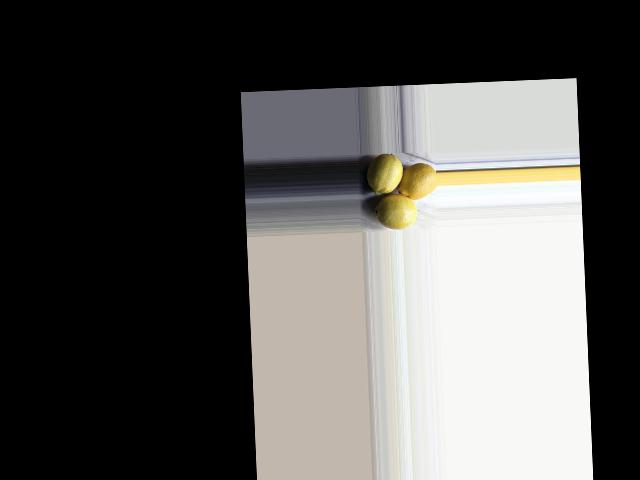lemon: (371, 196, 418, 230)
